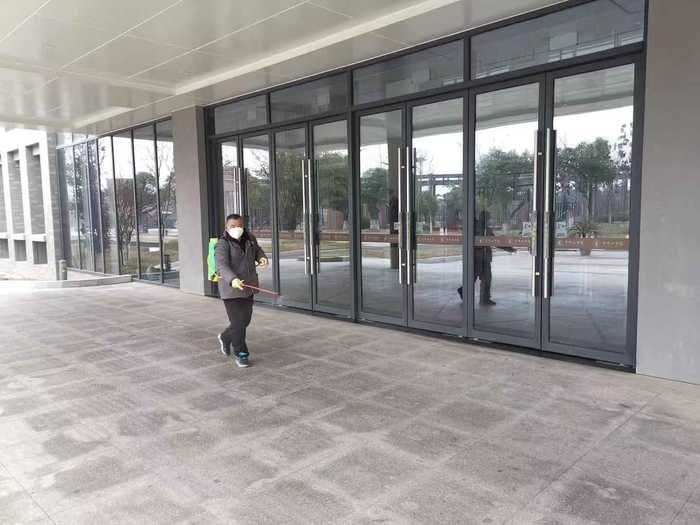correctlyWear: (224, 221, 245, 239)
